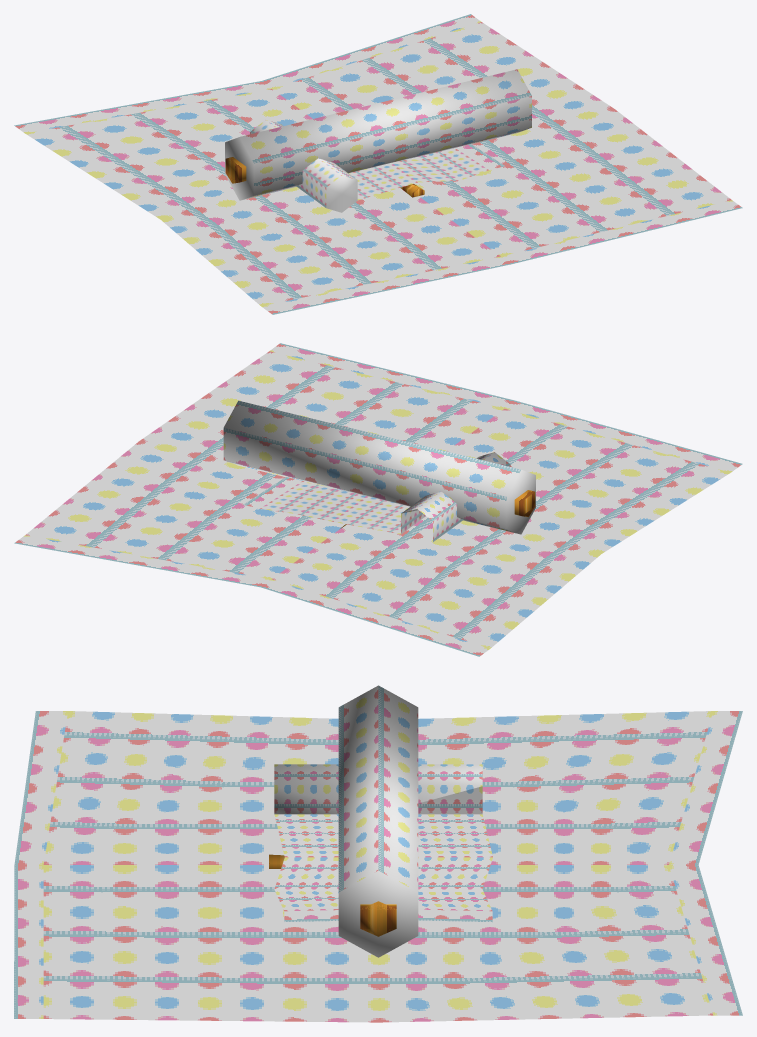
The model's file is 5286ucc_nunoji00.gltf.
The picture shows the model from 3 angles, top to bottom: view 1: azimuth 30°, elevation 25°; view 2: azimuth 150°, elevation 25°; view 3: azimuth 270°, elevation 25°; orthographic projection. The views are drawn at different scales.
Parts seen in each view (by area): view 1: 5286ucc_nunoji00; view 2: 5286ucc_nunoji00; view 3: 5286ucc_nunoji00.
Boxes of the visible parts, x1,y1,x2,y2 form: 5286ucc_nunoji00: [14, 14, 742, 314]; 5286ucc_nunoji00: [14, 343, 742, 656]; 5286ucc_nunoji00: [14, 685, 742, 1022].
Size of the model in its own units: 2.02 by 0.2949 by 2.
2 materials, 2 textured.
